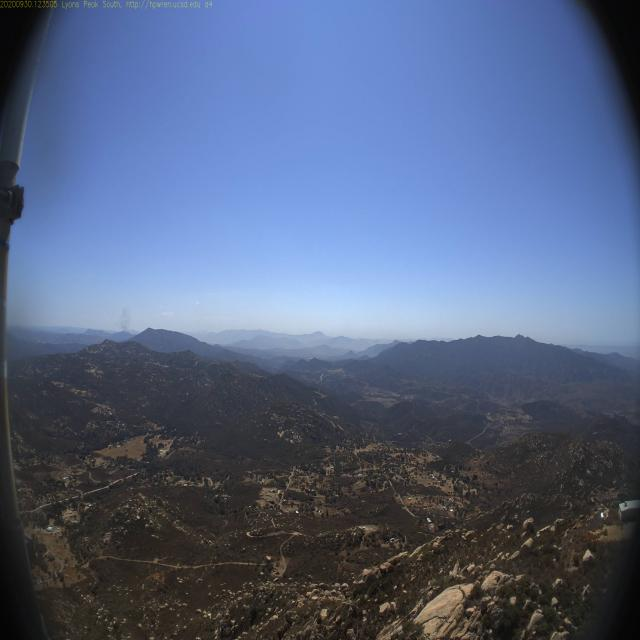smoke: (118, 304, 131, 343)
